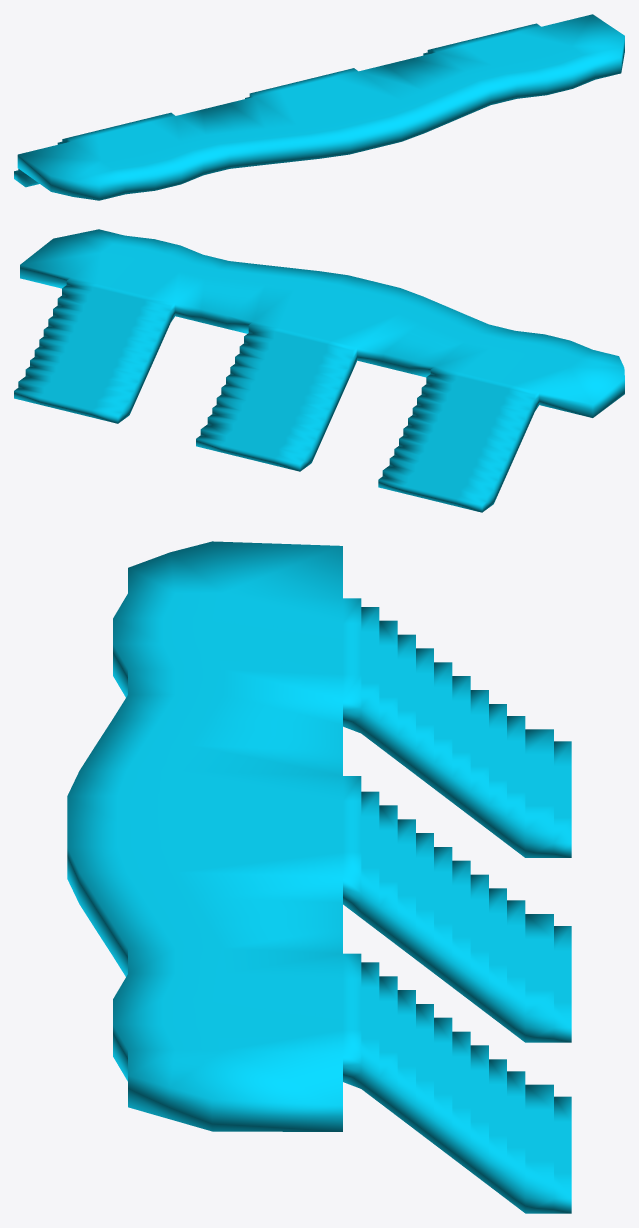
The model's file is Stockadestairs_low.fbx.
3 views of the same model, one above another, from view 1: azimuth 30°, elevation 25°; view 2: azimuth 150°, elevation 25°; view 3: azimuth 270°, elevation 25° (orthographic). The views are drawn at different scales.
Visible parts, largest first — view 1: 1Stairs_low; view 2: 1Stairs_low; view 3: 1Stairs_low.
Boxes of the visible parts, x1,y1,x2,y2 form: 1Stairs_low: (14,14,624,200); 1Stairs_low: (14,229,624,512); 1Stairs_low: (67,541,571,1213).
Size of the model in its own units: 16424 by 2333 by 6260.
